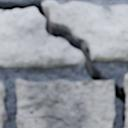brick: (16, 80, 113, 127), (0, 82, 6, 127), (125, 75, 127, 95)
broken_brick: (43, 0, 127, 61), (0, 9, 83, 68)
crack: (0, 0, 127, 127), (17, 113, 69, 126)
